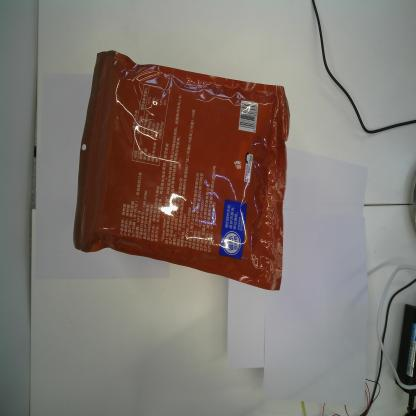Dried Food: (72, 47, 291, 290)
